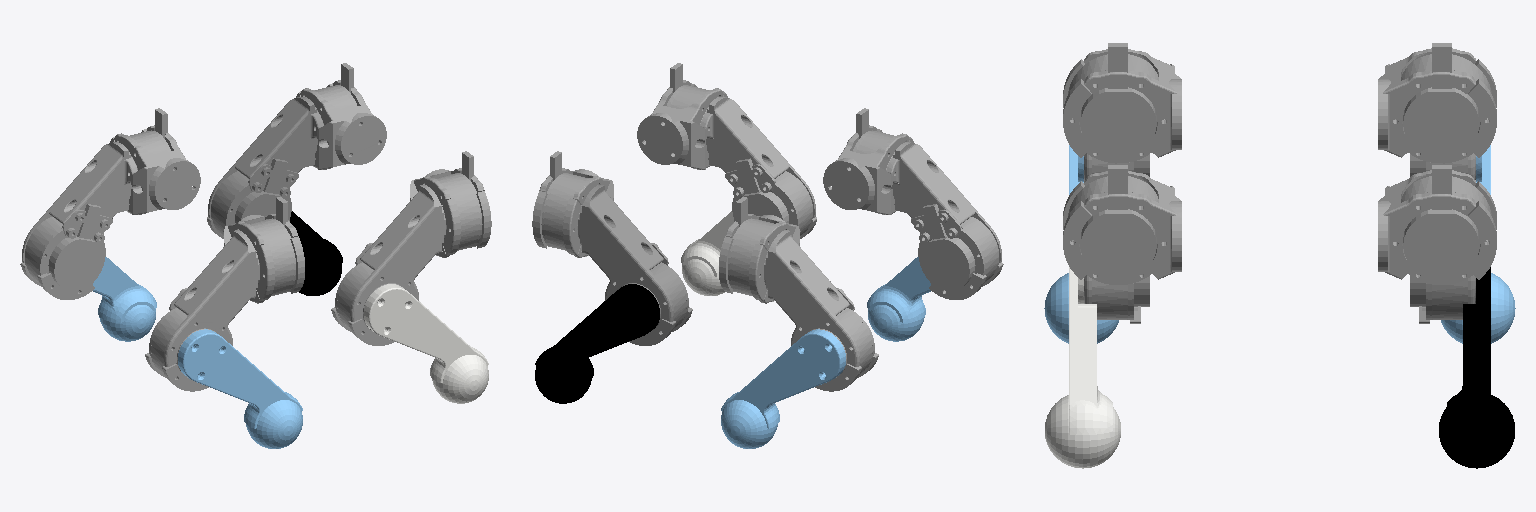
URDF robot description (pupper_v3):
<?xml version="1.0"?>
<!-- created with Phobos 1.0.1 "Capricious Choutengan" -->
  <robot name="pupper_v3">

    <link name="base_link">
      <inertial>
        <origin xyz="0.04 0 0.025" rpy="0 0 0"/>
        <mass value="1.0"/>
        <inertia ixx="0.00236" ixy="0" ixz="0" iyy="0.0045" iyz="0" izz="0.004"/>
      </inertial>
      <visual name="pupperv3_export">
        <origin xyz="0 0 0" rpy="0 0 0"/>
        <geometry>
          <mesh filename="../meshes/dae/pupperv3_export.dae" scale="1.0 1.0 1.0"/>
        </geometry>
        <material name="Plastic_-_Matte_(Gray)"/>
      </visual>
      <collision name="ProtoAssembly-MG v25.004">
        <origin xyz="0.02009 0 0.03177" rpy="1.5708 0 0"/>
        <geometry>
          <box size="0.26419 0.13252 0.11"/>
        </geometry>
      </collision>
    </link>

    <link name="leg_back_l_1">
      <inertial>
        <origin xyz="0.00263 8e-05 0.03455" rpy="0 0 0"/>
        <mass value="0.2"/>
        <inertia ixx="0.0002" ixy="0" ixz="0" iyy="0.0002" iyz="0" izz="0.0002"/>
      </inertial>
      <visual name="pupperv3_export.011">
        <origin xyz="0.075 0 -0.05" rpy="1.5708 0 0"/>
        <geometry>
          <mesh filename="../meshes/dae/pupperv3_export.011.dae" scale="1.0 1.0 1.0"/>
        </geometry>
        <material name="Plastic_-_Matte_(Gray)"/>
      </visual>
      <collision name="Cylinder.007">
        <origin xyz="0 0 0.034" rpy="-3.14159 1.5708 0"/>
        <geometry>
          <cylinder radius="0.0265" length="0.025"/>
        </geometry>
      </collision>
    </link>

    <link name="leg_back_l_2">
      <inertial>
        <origin xyz="0.0461 0.00255 -0.05754" rpy="0 0 0"/>
        <mass value="0.2"/>
        <inertia ixx="0.0002" ixy="0" ixz="0" iyy="0.0002" iyz="0" izz="0.0002"/>
      </inertial>
      <visual name="pupperv3_export.006">
        <origin xyz="0 -0.084 0.075" rpy="0 -1.5708 0"/>
        <geometry>
          <mesh filename="../meshes/dae/pupperv3_export.006.dae" scale="1.0 1.0 1.0"/>
        </geometry>
        <material name="Plastic_-_Matte_(Gray)"/>
      </visual>
      <collision name="Cube.006">
        <origin xyz="0.01721 -1e-05 -0.04981" rpy="0 -2.26893 0"/>
        <geometry>
          <box size="0.07978 0.03123 0.02896"/>
        </geometry>
      </collision>
      <collision name="Cylinder.003">
        <origin xyz="0.0515 0 -0.07" rpy="1.5708 -1.5708 0"/>
        <geometry>
          <cylinder radius="0.0265" length="0.025"/>
        </geometry>
      </collision>
    </link>

    <link name="leg_back_l_3">
      <inertial>
        <origin xyz="-0.08114 0.0073 -0.01746" rpy="0 0 0"/>
        <mass value="0.045"/>
        <inertia ixx="0.0001" ixy="0" ixz="0" iyy="0.0001" iyz="0" izz="0.0001"/>
      </inertial>
      <visual name="pupperv3_export.004">
        <origin xyz="-0.07797 -0.13266 0.084" rpy="-1.5708 0 -2.44346"/>
        <geometry>
          <mesh filename="../meshes/dae/pupperv3_export.004.dae" scale="1.0 1.0 1.0"/>
        </geometry>
        <material name="Plastic_-_Matte_(White)"/>
      </visual>
      <collision name="Cube.007">
        <origin xyz="-0.04385 0.0046 -0.01846" rpy="-1.5708 0 -3.03542"/>
        <geometry>
          <box size="0.06966 0.01583 0.01448"/>
        </geometry>
      </collision>
      <collision name="ProtoAssembly-MGv25.017">
        <origin xyz="-0.08746 0.0107 -0.0189" rpy="0 3.14159 0"/>
        <geometry>
          <sphere radius="0.01984"/>
        </geometry>
      </collision>
    </link>

    <link name="leg_back_r_1">
      <inertial>
        <origin xyz="0.00272 -1e-05 0.03409" rpy="0 0 0"/>
        <mass value="0.2"/>
        <inertia ixx="0.0002" ixy="0" ixz="0" iyy="0.0002" iyz="0" izz="0.0002"/>
      </inertial>
      <visual name="pupperv3_export.010">
        <origin xyz="0.075 0 -0.05" rpy="-1.5708 0 0"/>
        <geometry>
          <mesh filename="../meshes/dae/pupperv3_export.010.dae" scale="1.0 1.0 1.0"/>
        </geometry>
        <material name="Plastic_-_Matte_(Gray)"/>
      </visual>
      <collision name="Cylinder.005">
        <origin xyz="0 0 0.034" rpy="0 -1.5708 0"/>
        <geometry>
          <cylinder radius="0.0265" length="0.025"/>
        </geometry>
      </collision>
    </link>

    <link name="leg_back_r_2">
      <inertial>
        <origin xyz="-0.04555 -0.00233 0.05745" rpy="0 0 0"/>
        <mass value="0.2"/>
        <inertia ixx="0.0002" ixy="0" ixz="0" iyy="0.0002" iyz="0" izz="0.0002"/>
      </inertial>
      <visual name="pupperv3_export.007">
        <origin xyz="0 0.084 -0.075" rpy="0 1.5708 0"/>
        <geometry>
          <mesh filename="../meshes/dae/pupperv3_export.007.dae" scale="1.0 1.0 1.0"/>
        </geometry>
        <material name="Plastic_-_Matte_(Gray)"/>
      </visual>
      <collision name="Cube.002">
        <origin xyz="-0.01721 1e-05 0.04981" rpy="0 0.87266 0"/>
        <geometry>
          <box size="0.07978 0.03123 0.02896"/>
        </geometry>
      </collision>
      <collision name="Cylinder.001">
        <origin xyz="-0.0515 0 0.07" rpy="1.5708 1.5708 0"/>
        <geometry>
          <cylinder radius="0.0265" length="0.025"/>
        </geometry>
      </collision>
    </link>

    <link name="leg_back_r_3">
      <inertial>
        <origin xyz="0.08114 -0.0073 0.01746" rpy="0 0 0"/>
        <mass value="0.045"/>
        <inertia ixx="0.0001" ixy="0" ixz="0" iyy="0.0001" iyz="0" izz="0.0001"/>
      </inertial>
      <visual name="pupperv3_export.002">
        <origin xyz="0.07797 0.13266 -0.084" rpy="-1.5708 0 0.69813"/>
        <geometry>
          <mesh filename="../meshes/dae/pupperv3_export.002.dae" scale="1.0 1.0 1.0"/>
        </geometry>
        <material name="Plastic_-_Matte_(White)"/>
      </visual>
      <collision name="Cube.003">
        <origin xyz="0.04385 -0.0046 0.01846" rpy="-1.5708 0 0.10617"/>
        <geometry>
          <box size="0.06966 0.01583 0.01448"/>
        </geometry>
      </collision>
      <collision name="ProtoAssembly-MGv25.009">
        <origin xyz="0.08746 -0.0107 0.0189" rpy="0 0 0"/>
        <geometry>
          <sphere radius="0.01984"/>
        </geometry>
      </collision>
    </link>

    <link name="leg_front_l_1">
      <inertial>
        <origin xyz="0.00263 8e-05 0.03455" rpy="0 0 0"/>
        <mass value="0.2"/>
        <inertia ixx="0.0002" ixy="0" ixz="0" iyy="0.0002" iyz="0" izz="0.0002"/>
      </inertial>
      <visual name="pupperv3_export.012">
        <origin xyz="-0.075 0 -0.05" rpy="1.5708 0 0"/>
        <geometry>
          <mesh filename="../meshes/dae/pupperv3_export.012.dae" scale="1.0 1.0 1.0"/>
        </geometry>
        <material name="Plastic_-_Matte_(Gray)"/>
      </visual>
      <collision name="Cylinder.006">
        <origin xyz="0 0 0.034" rpy="-3.14159 1.5708 0"/>
        <geometry>
          <cylinder radius="0.0265" length="0.025"/>
        </geometry>
      </collision>
    </link>

    <link name="leg_front_l_2">
      <inertial>
        <origin xyz="0.0461 0.00255 -0.05754" rpy="0 0 0"/>
        <mass value="0.2"/>
        <inertia ixx="0.0002" ixy="0" ixz="0" iyy="0.0002" iyz="0" izz="0.0002"/>
      </inertial>
      <visual name="pupperv3_export.005">
        <origin xyz="0 -0.084 -0.075" rpy="0 -1.5708 0"/>
        <geometry>
          <mesh filename="../meshes/dae/pupperv3_export.005.dae" scale="1.0 1.0 1.0"/>
        </geometry>
        <material name="Steel_-_Satin"/>
      </visual>
      <collision name="Cube.004">
        <origin xyz="0.01721 -1e-05 -0.04981" rpy="0 -2.26893 0"/>
        <geometry>
          <box size="0.07978 0.03123 0.02896"/>
        </geometry>
      </collision>
      <collision name="Cylinder.002">
        <origin xyz="0.0515 0 -0.07" rpy="1.5708 -1.5708 0"/>
        <geometry>
          <cylinder radius="0.0265" length="0.025"/>
        </geometry>
      </collision>
    </link>

    <link name="leg_front_l_3">
      <inertial>
        <origin xyz="-0.08114 0.0073 -0.01746" rpy="0 0 0"/>
        <mass value="0.045"/>
        <inertia ixx="0.0001" ixy="0" ixz="0" iyy="0.0001" iyz="0" izz="0.0001"/>
      </inertial>
      <visual name="pupperv3_export.003">
        <origin xyz="0.03694 -0.03624 0.084" rpy="-1.5708 0 -2.44346"/>
        <geometry>
          <mesh filename="../meshes/dae/pupperv3_export.003.dae" scale="1.0 1.0 1.0"/>
        </geometry>
        <material name="Polyurethane"/>
      </visual>
      <collision name="Cube.005">
        <origin xyz="-0.04385 0.0046 -0.01846" rpy="-1.5708 0 -3.03542"/>
        <geometry>
          <box size="0.06966 0.01583 0.01448"/>
        </geometry>
      </collision>
      <collision name="ProtoAssembly-MGv25.013">
        <origin xyz="-0.08746 0.0107 -0.0189" rpy="0 3.14159 0"/>
        <geometry>
          <sphere radius="0.01984"/>
        </geometry>
      </collision>
    </link>

    <link name="leg_front_r_1">
      <inertial>
        <origin xyz="0.00272 -1e-05 0.03409" rpy="0 0 0"/>
        <mass value="0.2"/>
        <inertia ixx="0.0002" ixy="0" ixz="0" iyy="0.0002" iyz="0" izz="0.0002"/>
      </inertial>
      <visual name="pupperv3_export.009">
        <origin xyz="-0.075 0 -0.05" rpy="-1.5708 0 0"/>
        <geometry>
          <mesh filename="../meshes/dae/pupperv3_export.009.dae" scale="1.0 1.0 1.0"/>
        </geometry>
        <material name="Plastic_-_Matte_(Gray)"/>
      </visual>
      <collision name="Cylinder.004">
        <origin xyz="0 0 0.034" rpy="0 -1.5708 0"/>
        <geometry>
          <cylinder radius="0.0265" length="0.025"/>
        </geometry>
      </collision>
    </link>

    <link name="leg_front_r_2">
      <inertial>
        <origin xyz="-0.04555 -0.00233 0.05745" rpy="0 0 0"/>
        <mass value="0.2"/>
        <inertia ixx="0.0002" ixy="0" ixz="0" iyy="0.0002" iyz="0" izz="0.0002"/>
      </inertial>
      <visual name="pupperv3_export.008">
        <origin xyz="0 0.084 0.075" rpy="0 1.5708 0"/>
        <geometry>
          <mesh filename="../meshes/dae/pupperv3_export.008.dae" scale="1.0 1.0 1.0"/>
        </geometry>
        <material name="Plastic_-_Matte_(Gray)"/>
      </visual>
      <collision name="Cube">
        <origin xyz="-0.01721 1e-05 0.04981" rpy="0 0.87266 0"/>
        <geometry>
          <box size="0.07978 0.03123 0.02896"/>
        </geometry>
      </collision>
      <collision name="Cylinder">
        <origin xyz="-0.0515 0 0.07" rpy="1.5708 1.5708 0"/>
        <geometry>
          <cylinder radius="0.0265" length="0.025"/>
        </geometry>
      </collision>
    </link>

    <link name="leg_front_r_3">
      <inertial>
        <origin xyz="0.08114 -0.0073 0.01746" rpy="0 0 0"/>
        <mass value="0.045"/>
        <inertia ixx="0.0001" ixy="0" ixz="0" iyy="0.0001" iyz="0" izz="0.0001"/>
      </inertial>
      <visual name="pupperv3_export.001">
        <origin xyz="-0.03694 0.03624 -0.084" rpy="-1.5708 0 0.69813"/>
        <geometry>
          <mesh filename="../meshes/dae/pupperv3_export.001.dae" scale="1.0 1.0 1.0"/>
        </geometry>
        <material name="ABS_(White)"/>
      </visual>
      <collision name="Cube.001">
        <origin xyz="0.04385 -0.0046 0.01846" rpy="-1.5708 0 0.10617"/>
        <geometry>
          <box size="0.06966 0.01583 0.01448"/>
        </geometry>
      </collision>
      <collision name="ProtoAssembly-MGv25.005">
        <origin xyz="0.08746 -0.0107 0.0189" rpy="0 0 0"/>
        <geometry>
          <sphere radius="0.01984"/>
        </geometry>
      </collision>
    </link>

    <joint name="leg_back_l_1" type="revolute">
      <origin xyz="-0.075 0.05 0" rpy="-1.5708 0 0"/>
      <parent link="base_link"/>
      <child link="leg_back_l_1"/>
      <axis xyz="0 0 1.0"/>
      <limit lower="-2.0944" upper="1.22173" effort="3.7" velocity="47.12389"/>
    </joint>

    <joint name="leg_back_l_2" type="revolute">
      <origin xyz="0 0 0.034" rpy="1.5708 0 1.5708"/>
      <parent link="leg_back_l_1"/>
      <child link="leg_back_l_2"/>
      <axis xyz="0 0 -1.0"/>
      <limit lower="-0.87266" upper="0.5236" effort="3.7" velocity="47.12389"/>
    </joint>

    <joint name="leg_back_l_3" type="revolute">
      <origin xyz="0.0515 0 -0.07" rpy="1.5708 2.26893 0"/>
      <parent link="leg_back_l_2"/>
      <child link="leg_back_l_3"/>
      <axis xyz="0 0 -1.0"/>
      <limit lower="-0.82903" upper="3.05433" effort="3.7" velocity="47.12389"/>
    </joint>

    <joint name="leg_back_r_1" type="revolute">
      <origin xyz="-0.075 -0.05 0" rpy="1.5708 0 0"/>
      <parent link="base_link"/>
      <child link="leg_back_r_1"/>
      <axis xyz="0 0 1.0"/>
      <limit lower="-1.22173" upper="2.0944" effort="3.7" velocity="47.12389"/>
    </joint>

    <joint name="leg_back_r_2" type="revolute">
      <origin xyz="0 0 0.034" rpy="-1.5708 0 1.5708"/>
      <parent link="leg_back_r_1"/>
      <child link="leg_back_r_2"/>
      <axis xyz="0 0 1.0"/>
      <limit lower="-0.5236" upper="0.87266" effort="3.7" velocity="47.12389"/>
    </joint>

    <joint name="leg_back_r_3" type="revolute">
      <origin xyz="-0.0515 0 0.07" rpy="1.5708 2.26893 0"/>
      <parent link="leg_back_r_2"/>
      <child link="leg_back_r_3"/>
      <axis xyz="0 0 1.0"/>
      <limit lower="-3.05433" upper="0.82903" effort="3.7" velocity="47.12389"/>
    </joint>

    <joint name="leg_front_l_1" type="revolute">
      <origin xyz="0.075 0.05 0" rpy="-1.5708 0 0"/>
      <parent link="base_link"/>
      <child link="leg_front_l_1"/>
      <axis xyz="0 0 1.0"/>
      <limit lower="-2.0944" upper="1.22173" effort="3.7" velocity="47.12389"/>
    </joint>

    <joint name="leg_front_l_2" type="revolute">
      <origin xyz="0 0 0.034" rpy="1.5708 0 1.5708"/>
      <parent link="leg_front_l_1"/>
      <child link="leg_front_l_2"/>
      <axis xyz="0 0 -1.0"/>
      <limit lower="-0.87266" upper="0.5236" effort="3.7" velocity="47.12389"/>
    </joint>

    <joint name="leg_front_l_3" type="revolute">
      <origin xyz="0.0515 0 -0.07" rpy="1.5708 2.26893 0"/>
      <parent link="leg_front_l_2"/>
      <child link="leg_front_l_3"/>
      <axis xyz="0 0 -1.0"/>
      <limit lower="-0.82903" upper="3.05433" effort="3.7" velocity="47.12389"/>
    </joint>

    <joint name="leg_front_r_1" type="revolute">
      <origin xyz="0.075 -0.05 0" rpy="1.5708 0 0"/>
      <parent link="base_link"/>
      <child link="leg_front_r_1"/>
      <axis xyz="0 0 1.0"/>
      <limit lower="-1.22173" upper="2.0944" effort="3.7" velocity="47.12389"/>
    </joint>

    <joint name="leg_front_r_2" type="revolute">
      <origin xyz="0 0 0.034" rpy="-1.5708 0 1.5708"/>
      <parent link="leg_front_r_1"/>
      <child link="leg_front_r_2"/>
      <axis xyz="0 0 1.0"/>
      <limit lower="-0.5236" upper="0.87266" effort="3.7" velocity="47.12389"/>
    </joint>

    <joint name="leg_front_r_3" type="revolute">
      <origin xyz="-0.0515 0 0.07" rpy="1.5708 2.26893 0"/>
      <parent link="leg_front_r_2"/>
      <child link="leg_front_r_3"/>
      <axis xyz="0 0 1.0"/>
      <limit lower="-3.05433" upper="0.82903" effort="3.7" velocity="47.12389"/>
    </joint>

    <material name="ABS_(White)">
      <color rgba="0.96471 0.96471 0.95294 1.0"/>
    </material>

    <material name="Plastic_-_Matte_(Gray)">
      <color rgba="0.70196 0.70196 0.70196 1.0"/>
    </material>

    <material name="Plastic_-_Matte_(White)">
      <color rgba="0.62745 0.83922 1.0 1.0"/>
    </material>

    <material name="Polyurethane">
      <color rgba="0 0 0 1.0"/>
    </material>

    <material name="Steel_-_Satin">
      <color rgba="0.62745 0.62745 0.62745 1.0"/>
    </material>

  </robot>

--- Facts derived from the render (not from the file) ---
The picture shows the robot from 3 angles, left to right: view 1: azimuth 30°, elevation 25°; view 2: azimuth 150°, elevation 25°; view 3: azimuth 270°, elevation 25°; orthographic projection.
Model pupper_v3 with 13 links and 12 joints (12 revolute), rooted at base_link, posed all joints at 0.
Visible links, largest first — view 1: leg_back_l_2, leg_front_l_2, leg_back_r_2, leg_front_r_2, leg_front_r_3, leg_back_r_3, leg_front_l_1, leg_back_l_1, leg_front_r_1, leg_back_r_1, leg_back_l_3, leg_front_l_3; view 2: leg_back_r_2, leg_front_r_2, leg_back_l_2, leg_front_l_2, leg_back_l_3, leg_front_l_3, leg_front_r_1, leg_back_r_1, leg_front_l_1, leg_back_l_1, leg_back_r_3, leg_front_r_3; view 3: leg_back_l_1, leg_front_l_1, leg_back_r_1, leg_front_r_1, leg_front_l_3, leg_front_r_3, leg_front_l_2, leg_front_r_2, leg_back_l_3, leg_back_r_3, leg_back_r_2, leg_back_l_2.
Link boxes in pixels (x1=…): leg_back_l_2: x1=20, y1=142, x2=137, y2=299; leg_front_l_2: x1=207, y1=97, x2=323, y2=238; leg_back_r_2: x1=145, y1=230, x2=259, y2=391; leg_front_r_2: x1=331, y1=185, x2=445, y2=345; leg_front_r_3: x1=364, y1=284, x2=488, y2=403; leg_back_r_3: x1=178, y1=329, x2=302, y2=448; leg_front_l_1: x1=296, y1=63, x2=386, y2=169; leg_back_l_1: x1=110, y1=108, x2=200, y2=214; leg_front_r_1: x1=410, y1=151, x2=491, y2=257; leg_back_r_1: x1=224, y1=197, x2=304, y2=303; leg_back_l_3: x1=93, y1=257, x2=156, y2=341; leg_front_l_3: x1=290, y1=211, x2=342, y2=295; leg_back_r_2: x1=886, y1=142, x2=1003, y2=299; leg_front_r_2: x1=700, y1=97, x2=816, y2=238; leg_back_l_2: x1=764, y1=230, x2=878, y2=391; leg_front_l_2: x1=578, y1=185, x2=692, y2=345; leg_back_l_3: x1=721, y1=329, x2=845, y2=448; leg_front_l_3: x1=535, y1=284, x2=659, y2=403; leg_front_r_1: x1=637, y1=63, x2=727, y2=169; leg_back_r_1: x1=823, y1=108, x2=913, y2=214; leg_front_l_1: x1=532, y1=151, x2=613, y2=257; leg_back_l_1: x1=719, y1=197, x2=799, y2=303; leg_back_r_3: x1=867, y1=257, x2=930, y2=341; leg_front_r_3: x1=681, y1=211, x2=733, y2=295; leg_back_l_1: x1=1378, y1=43, x2=1496, y2=163; leg_front_l_1: x1=1378, y1=165, x2=1496, y2=284; leg_back_r_1: x1=1063, y1=43, x2=1181, y2=163; leg_front_r_1: x1=1063, y1=165, x2=1181, y2=284; leg_front_l_3: x1=1439, y1=267, x2=1514, y2=468; leg_front_r_3: x1=1045, y1=267, x2=1120, y2=468; leg_front_l_2: x1=1410, y1=275, x2=1475, y2=323; leg_front_r_2: x1=1084, y1=275, x2=1149, y2=323; leg_back_l_3: x1=1441, y1=145, x2=1515, y2=343; leg_back_r_3: x1=1044, y1=145, x2=1118, y2=343; leg_back_r_2: x1=1084, y1=153, x2=1149, y2=180; leg_back_l_2: x1=1410, y1=153, x2=1475, y2=179.
Bounding box of the posed robot: 0.2662 × 0.245 × 0.1789 m (x, y, z).
12 mesh visuals loaded from 13 distinct referenced files (12 Collada DAE); not drawn: 1 (reference not matched to a file when rendering).
